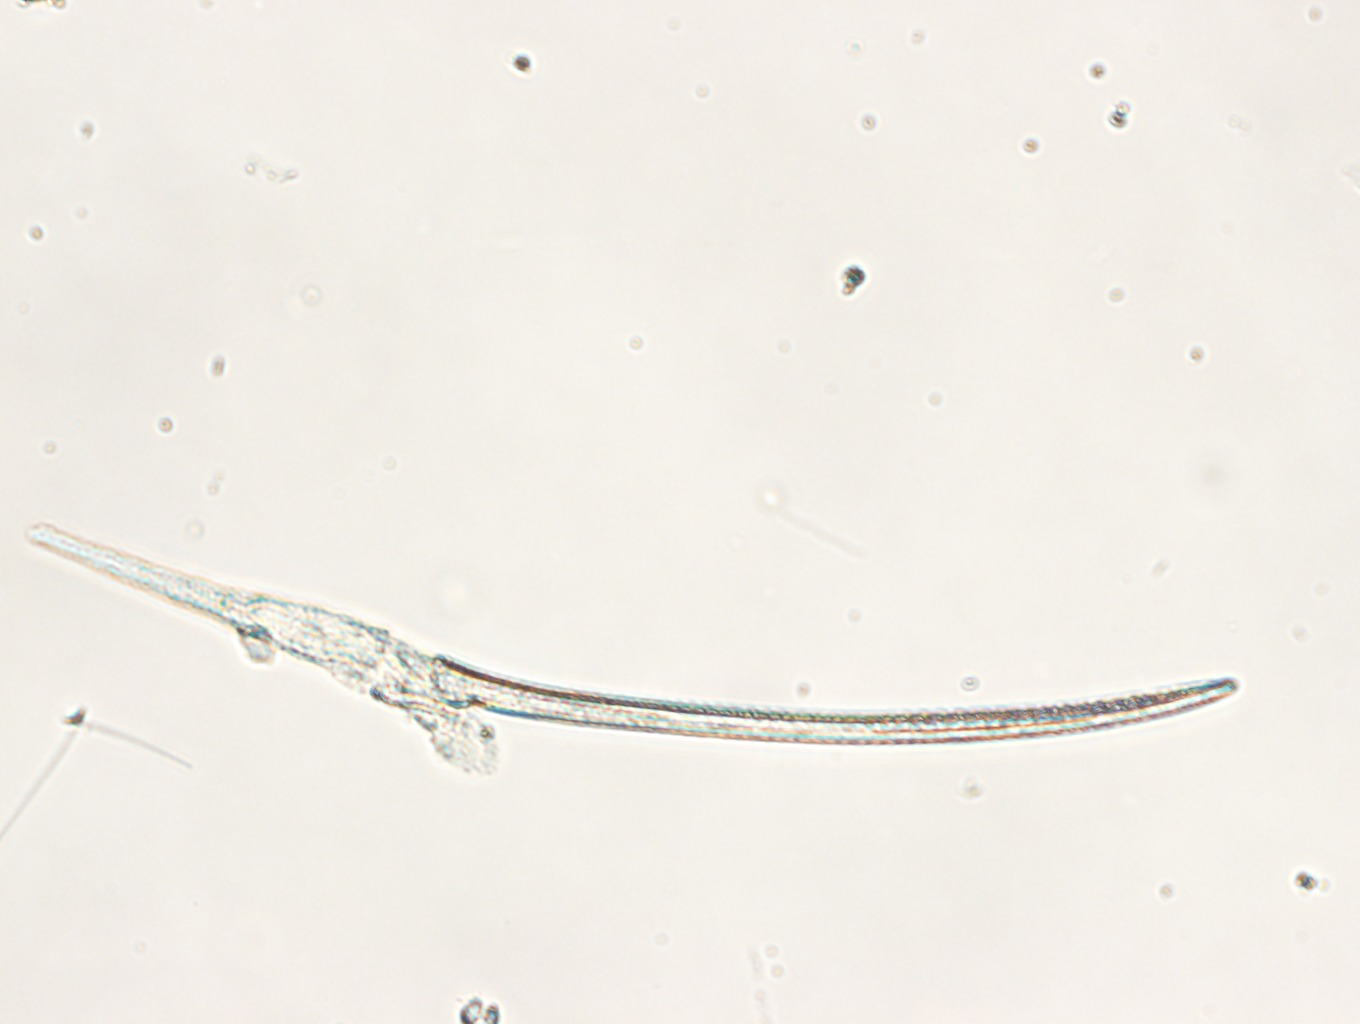ceratium fusus: (29, 520, 1236, 746)
